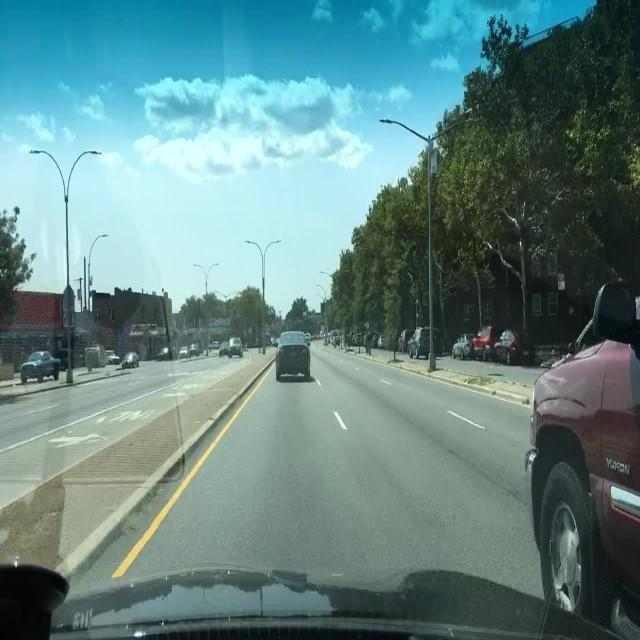normal: (266, 319, 339, 398), (15, 350, 59, 382), (409, 328, 450, 360)
